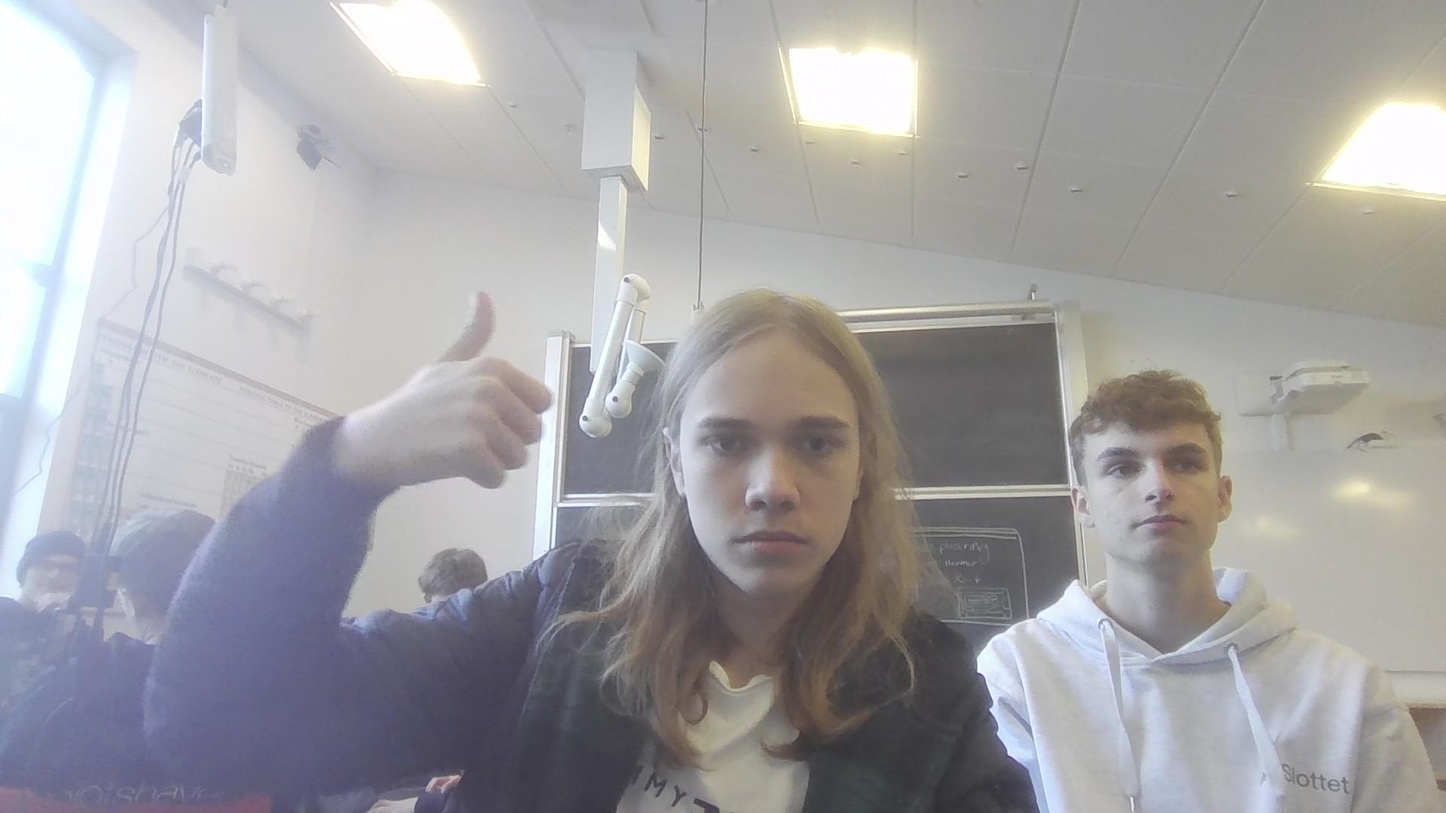thumbs up: (341, 287, 554, 490)
